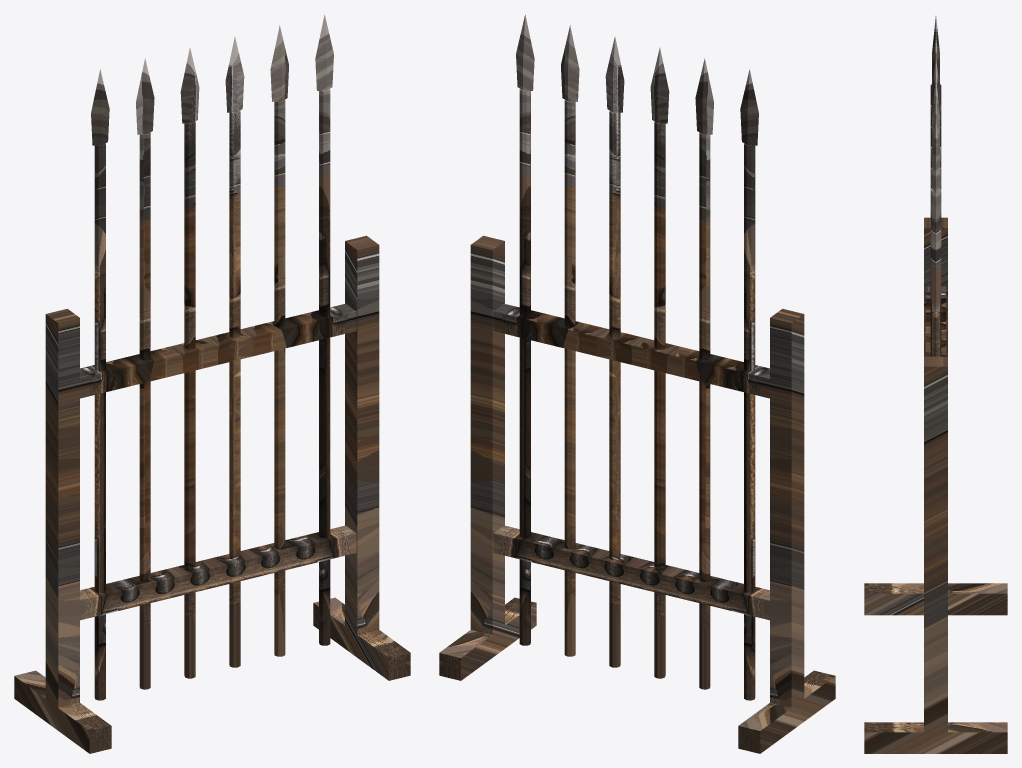
The model's file is v3-guard-post-spear-rack.glb.
3 views of the same model, side by side, from view 1: azimuth 30°, elevation 25°; view 2: azimuth 150°, elevation 25°; view 3: azimuth 270°, elevation 25° (orthographic). The views are drawn at different scales.
Parts seen in each view (by area): view 1: v3-guard-post-spear-rack; view 2: v3-guard-post-spear-rack; view 3: v3-guard-post-spear-rack.
Boxes of the visible parts, x1,y1,x2,y2 form: v3-guard-post-spear-rack: (14,15,410,753); v3-guard-post-spear-rack: (439,15,835,753); v3-guard-post-spear-rack: (864,16,1007,753).
Bounding box in the file's own units: 1.03 × 1.98 × 0.42.
1 material, 1 textured.
